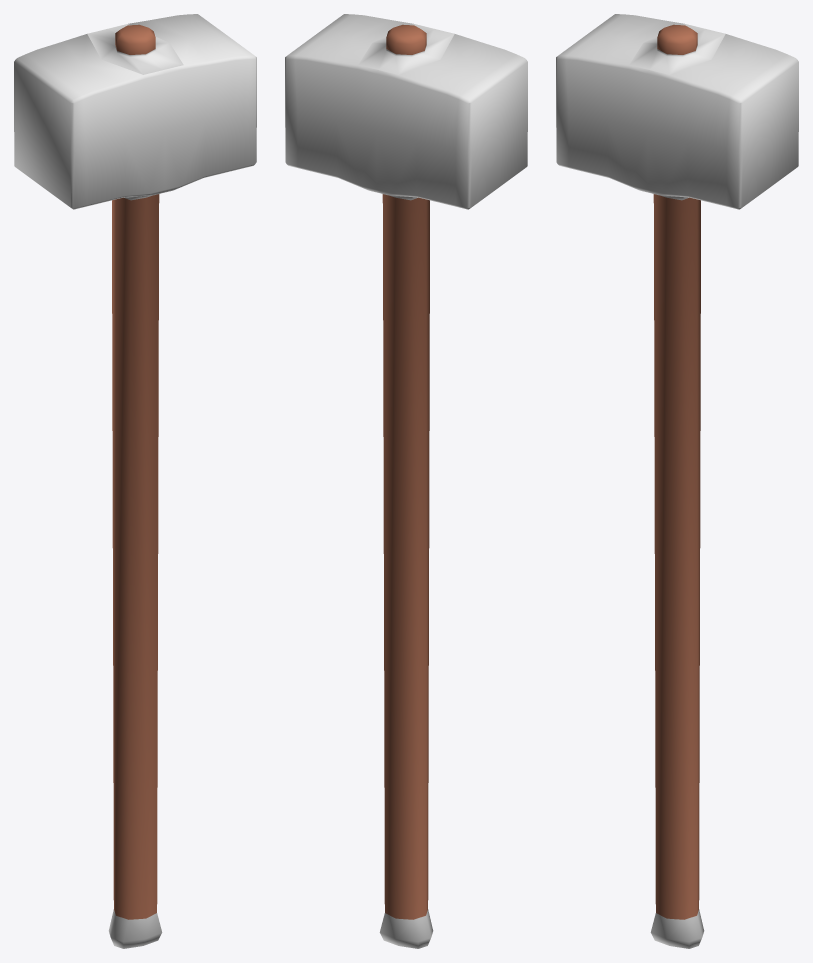
Rendered from Hammer Heavy 2.fbx.
3 renders of one model, left to right at view 1: azimuth 30°, elevation 25°; view 2: azimuth 150°, elevation 25°; view 3: azimuth 330°, elevation 25°, orthographic.
Visible parts, largest first — view 1: Warhammer.003; view 2: Warhammer.003; view 3: Warhammer.003.
Boxes of the visible parts, x1,y1,x2,y2 form: Warhammer.003: [14, 14, 256, 948]; Warhammer.003: [285, 14, 527, 948]; Warhammer.003: [556, 14, 798, 948].
Bounding box in the file's own units: 30.14 × 140 × 16.61.
